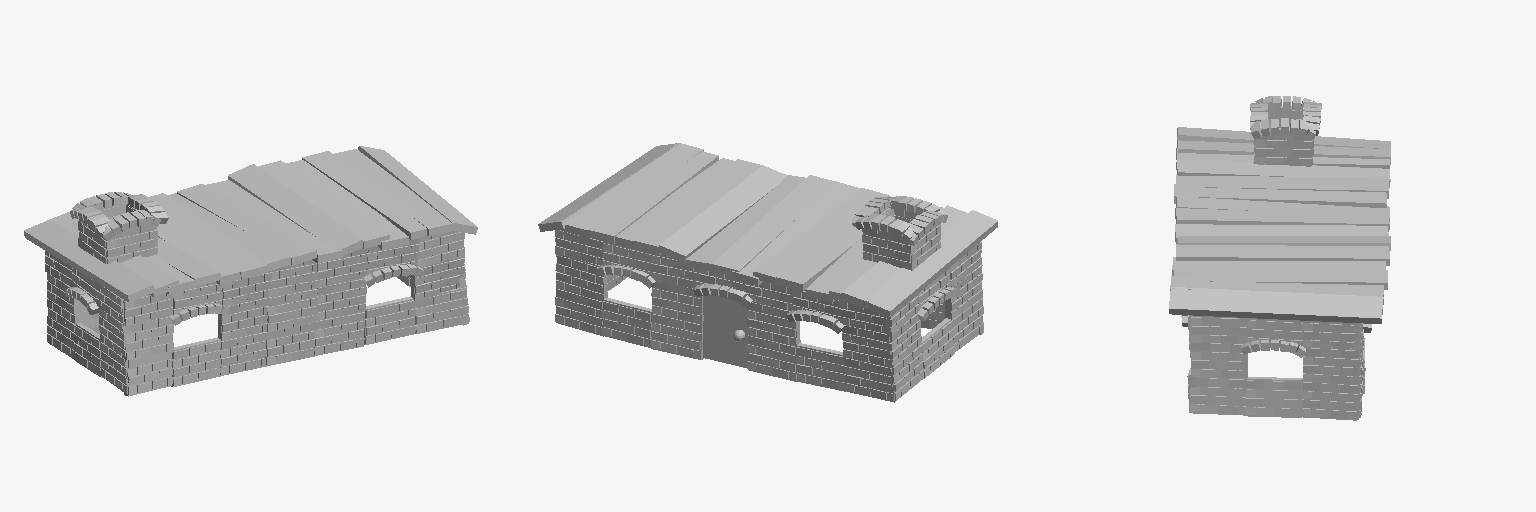
3 views of the same model, side by side, from view 1: azimuth 30°, elevation 25°; view 2: azimuth 150°, elevation 25°; view 3: azimuth 270°, elevation 25° (orthographic).
Visible parts, largest first — view 1: group[number redacted], group[number redacted], group[number redacted], group[number redacted], group[number redacted], group[number redacted], group[number redacted], group[number redacted], group[number redacted], group[number redacted], group[number redacted], group[number redacted] (+28 smaller); view 2: group[number redacted], group[number redacted], group[number redacted], group[number redacted], group[number redacted], group[number redacted], group[number redacted], group[number redacted], group[number redacted], group[number redacted], group[number redacted], group[number redacted] (+27 smaller); view 3: group[number redacted], group[number redacted], group[number redacted], group[number redacted], group[number redacted], group[number redacted], group[number redacted], group[number redacted], group[number redacted], group[number redacted], group[number redacted], group[number redacted] (+7 smaller).
Part boxes in pixels (x1,y1,x2,y2): group[number redacted]: (45,251,133,393); group[number redacted]: (363,238,424,344); group[number redacted]: (228,164,362,255); group[number redacted]: (24,221,154,302); group[number redacted]: (302,151,426,239); group[number redacted]: (177,184,317,265); group[number redacted]: (258,160,389,248); group[number redacted]: (334,149,455,235); group[number redacted]: (149,193,267,279); group[number redacted]: (206,180,343,262); group[number redacted]: (358,146,477,234); group[number redacted]: (171,337,220,386); group[number redacted]: (884,241,983,401); group[number redacted]: (867,210,997,317); group[number redacted]: (658,165,786,262); group[number redacted]: (786,289,846,391); group[number redacted]: (712,175,835,275); group[number redacted]: (588,151,718,243); group[number redacted]: (634,159,762,254); group[number redacted]: (703,295,747,367); group[number redacted]: (753,188,888,285); group[number redacted]: (565,143,703,238); group[number redacted]: (686,174,805,271); group[number redacted]: (731,181,861,285); group[number redacted]: (1189,315,1359,420); group[number redacted]: (1169,287,1383,323); group[number redacted]: (1176,244,1389,265); group[number redacted]: (1175,208,1389,231); group[number redacted]: (1174,269,1387,289); group[number redacted]: (1176,159,1390,187); group[number redacted]: (1174,184,1386,207); group[number redacted]: (1176,175,1388,198); group[number redacted]: (1175,224,1388,243); group[number redacted]: (1170,276,1383,296); group[number redacted]: (1178,236,1390,250); group[number redacted]: (1172,257,1385,275).
Size of the model in its own units: 4.05 by 1.75 by 2.18.